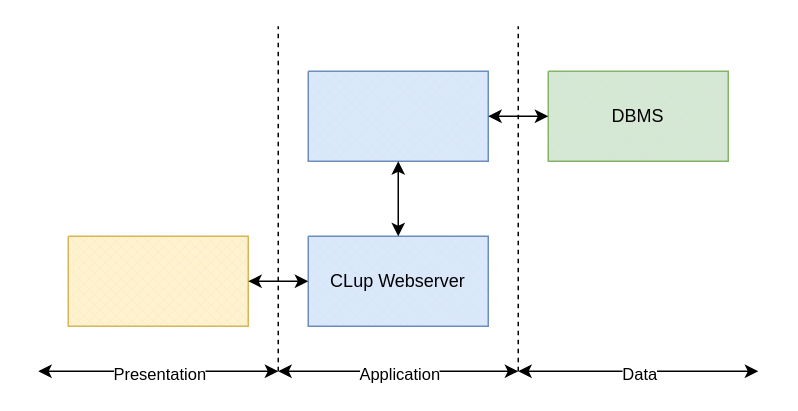
Image size: 798x411. Some labels were removed from this diagram. Here are the shapes that lost their labels. From the top down, the centre of each, then its label:
point 397,115: CLup Backend
point 157,280: CLup Web App View
